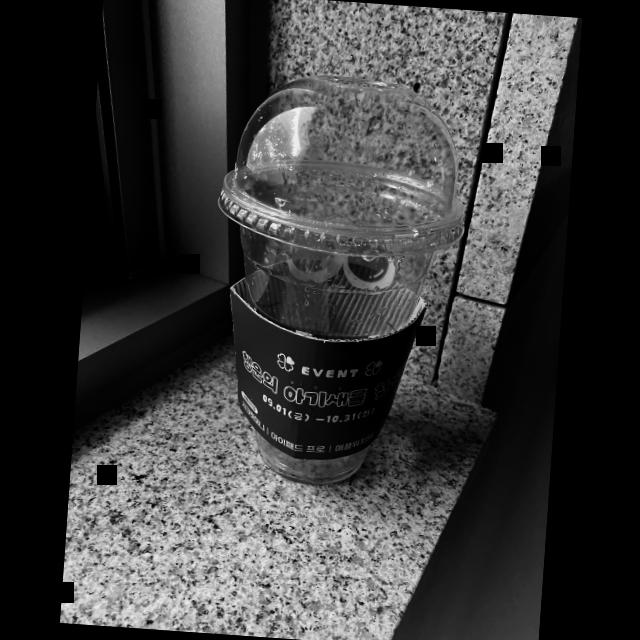plastic_cup: (191, 52, 462, 539)
plastic_cup_lid: (209, 64, 471, 260)
